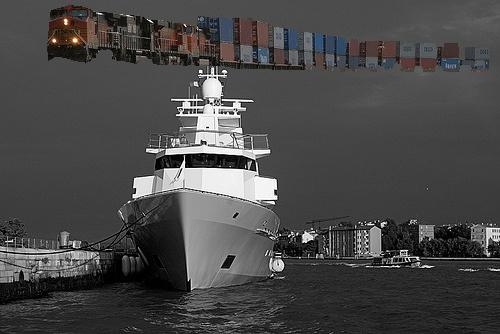tampered: (48, 6, 489, 72)
